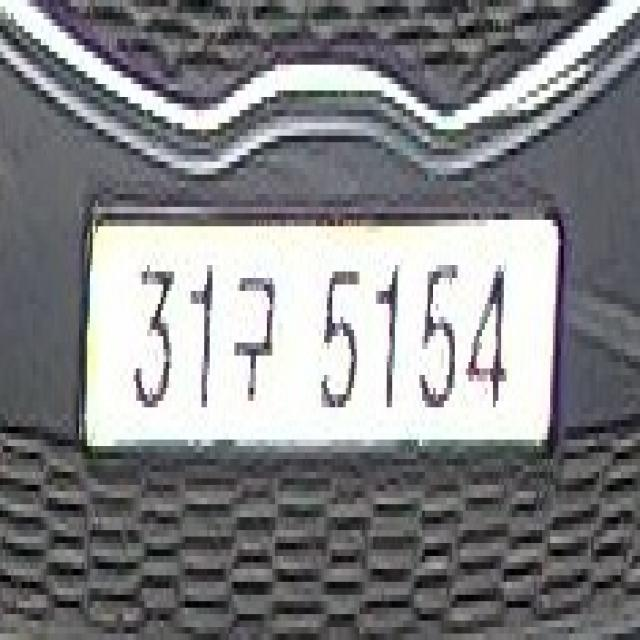1: (188, 265, 218, 414), (373, 265, 403, 414)
3: (136, 252, 180, 420)
4: (466, 259, 506, 407)
5: (419, 252, 463, 420), (316, 265, 362, 414)
gu: (232, 265, 275, 401)
license_plate: (81, 207, 564, 472)
